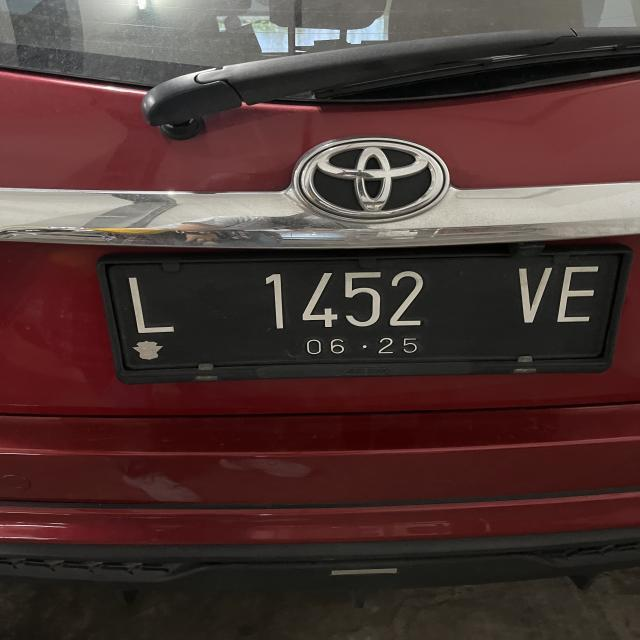1: (261, 271, 298, 336)
2: (389, 269, 426, 329)
4: (302, 272, 340, 330)
5: (342, 265, 380, 332)
E: (554, 262, 598, 326)
L: (122, 272, 182, 342)
V: (512, 263, 548, 328)
